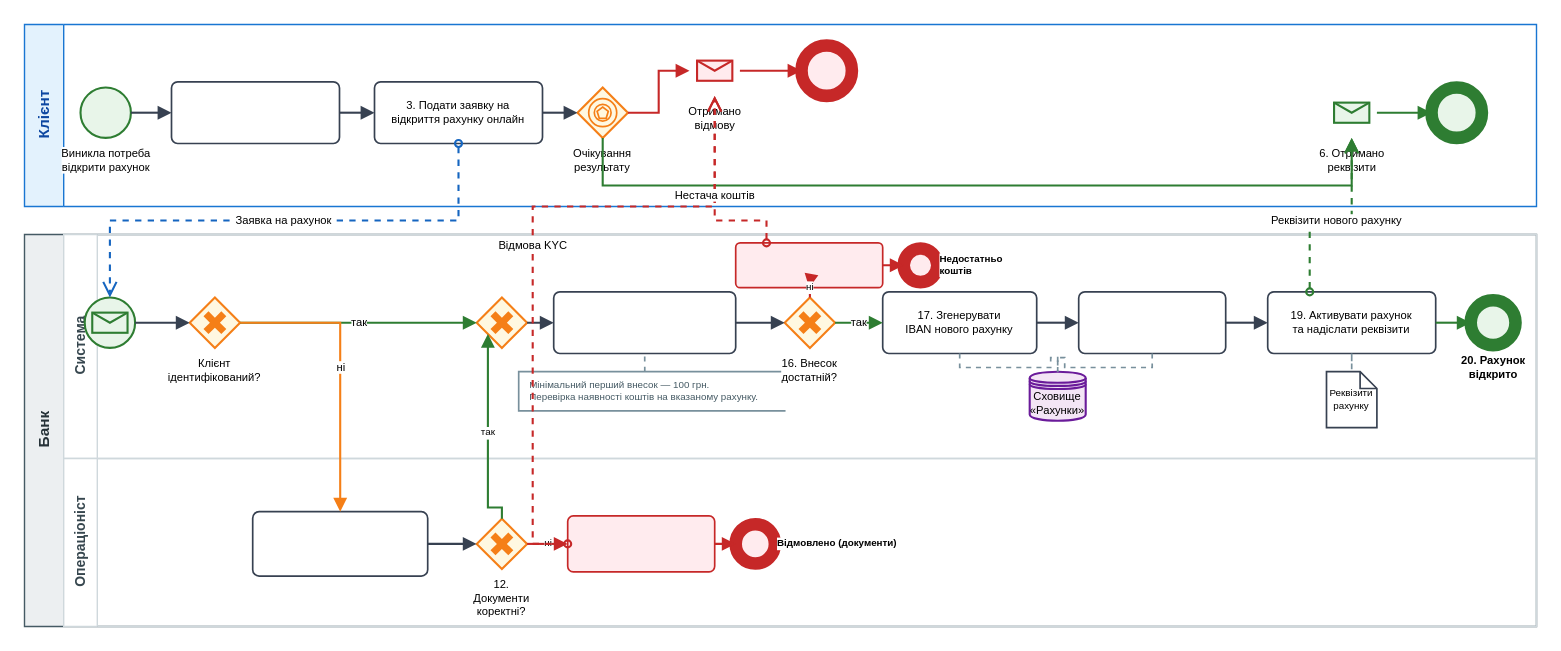
Some shapes in this 1561 by 651 pixel diagram are drawn without their labels. The centre of each missing label's shape, as x and y in pixels:
"11. Перевірити паспортні дані та РНОКПП (KYC)" belongs at point 339,543.
"15. Перевірити достатність коштів для внеску" belongs at point 644,322.
"18. Перенести суму першого внеску" belongs at point 1151,322.
"2. Вказати тип рахунку, рахунок і суму першого внеску" belongs at point 255,112.
"7. Рахунок відкрито" belongs at point 1456,112.
"Надіслати відмову: не пройдено KYC" belongs at point 640,543.
"Надіслати відмову: нестача коштів" belongs at point 808,264.
"Отримано заявку" belongs at point 109,322.
"У відкритті відмовлено" belongs at point 826,70.
